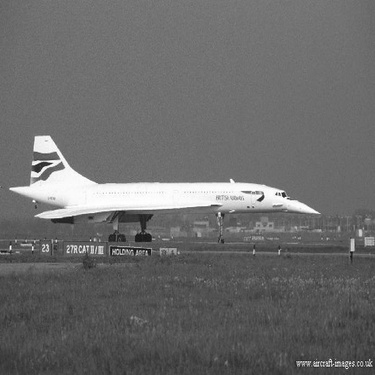airplane: (4, 129, 329, 240)
